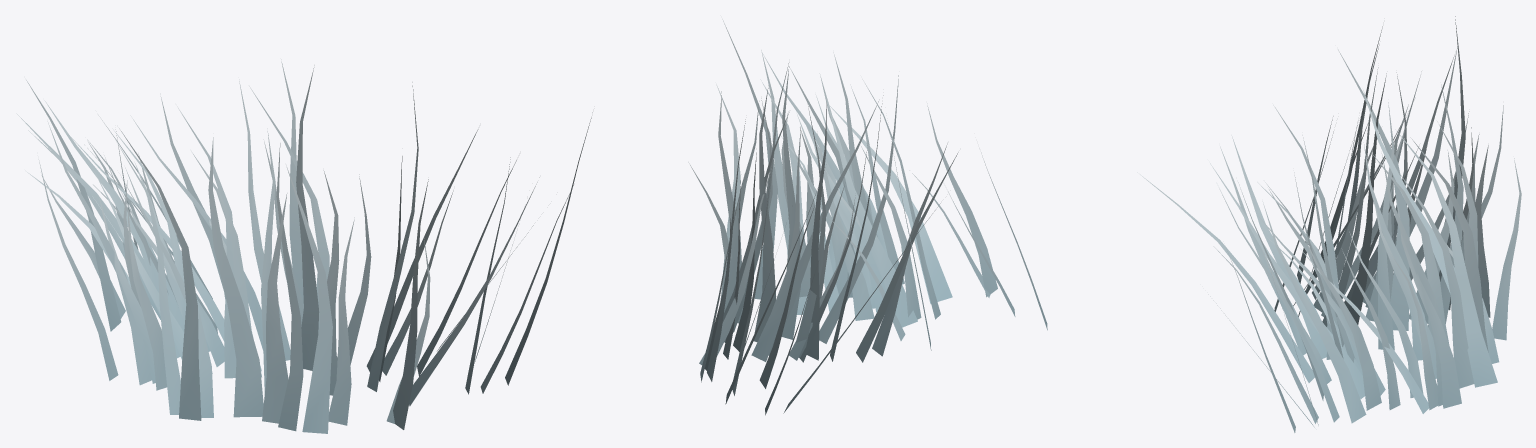
Rendered from mesh-plant-014-pearlgrass-tuft_LOD1.glb.
3 renders of one model, left to right at view 1: azimuth 30°, elevation 25°; view 2: azimuth 150°, elevation 25°; view 3: azimuth 270°, elevation 25°, orthographic. The views are drawn at different scales.
Parts seen in each view (by area): view 1: geometry_0; view 2: geometry_0; view 3: geometry_0.
Boxes of the visible parts, box(x1,y1,x2,y2) form: geometry_0: box(16, 59, 592, 433); geometry_0: box(688, 19, 1047, 415); geometry_0: box(1137, 16, 1521, 432).
Bounding box in the file's own units: 1.46 × 0.7841 × 1.15.
